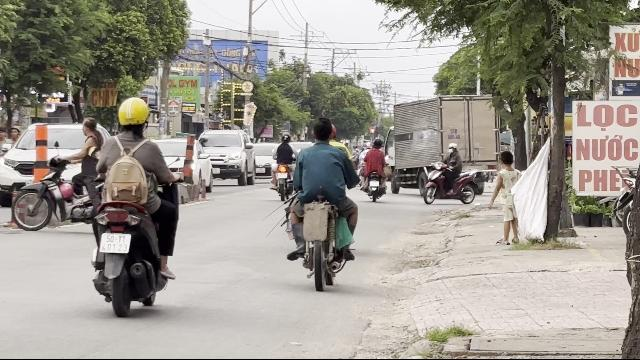helmet: (116, 96, 150, 133)
licenseplate: (100, 232, 130, 252)
motorcyclist: (86, 94, 180, 316), (281, 117, 361, 289)
nohelmet: (79, 113, 101, 143), (311, 118, 333, 142)
